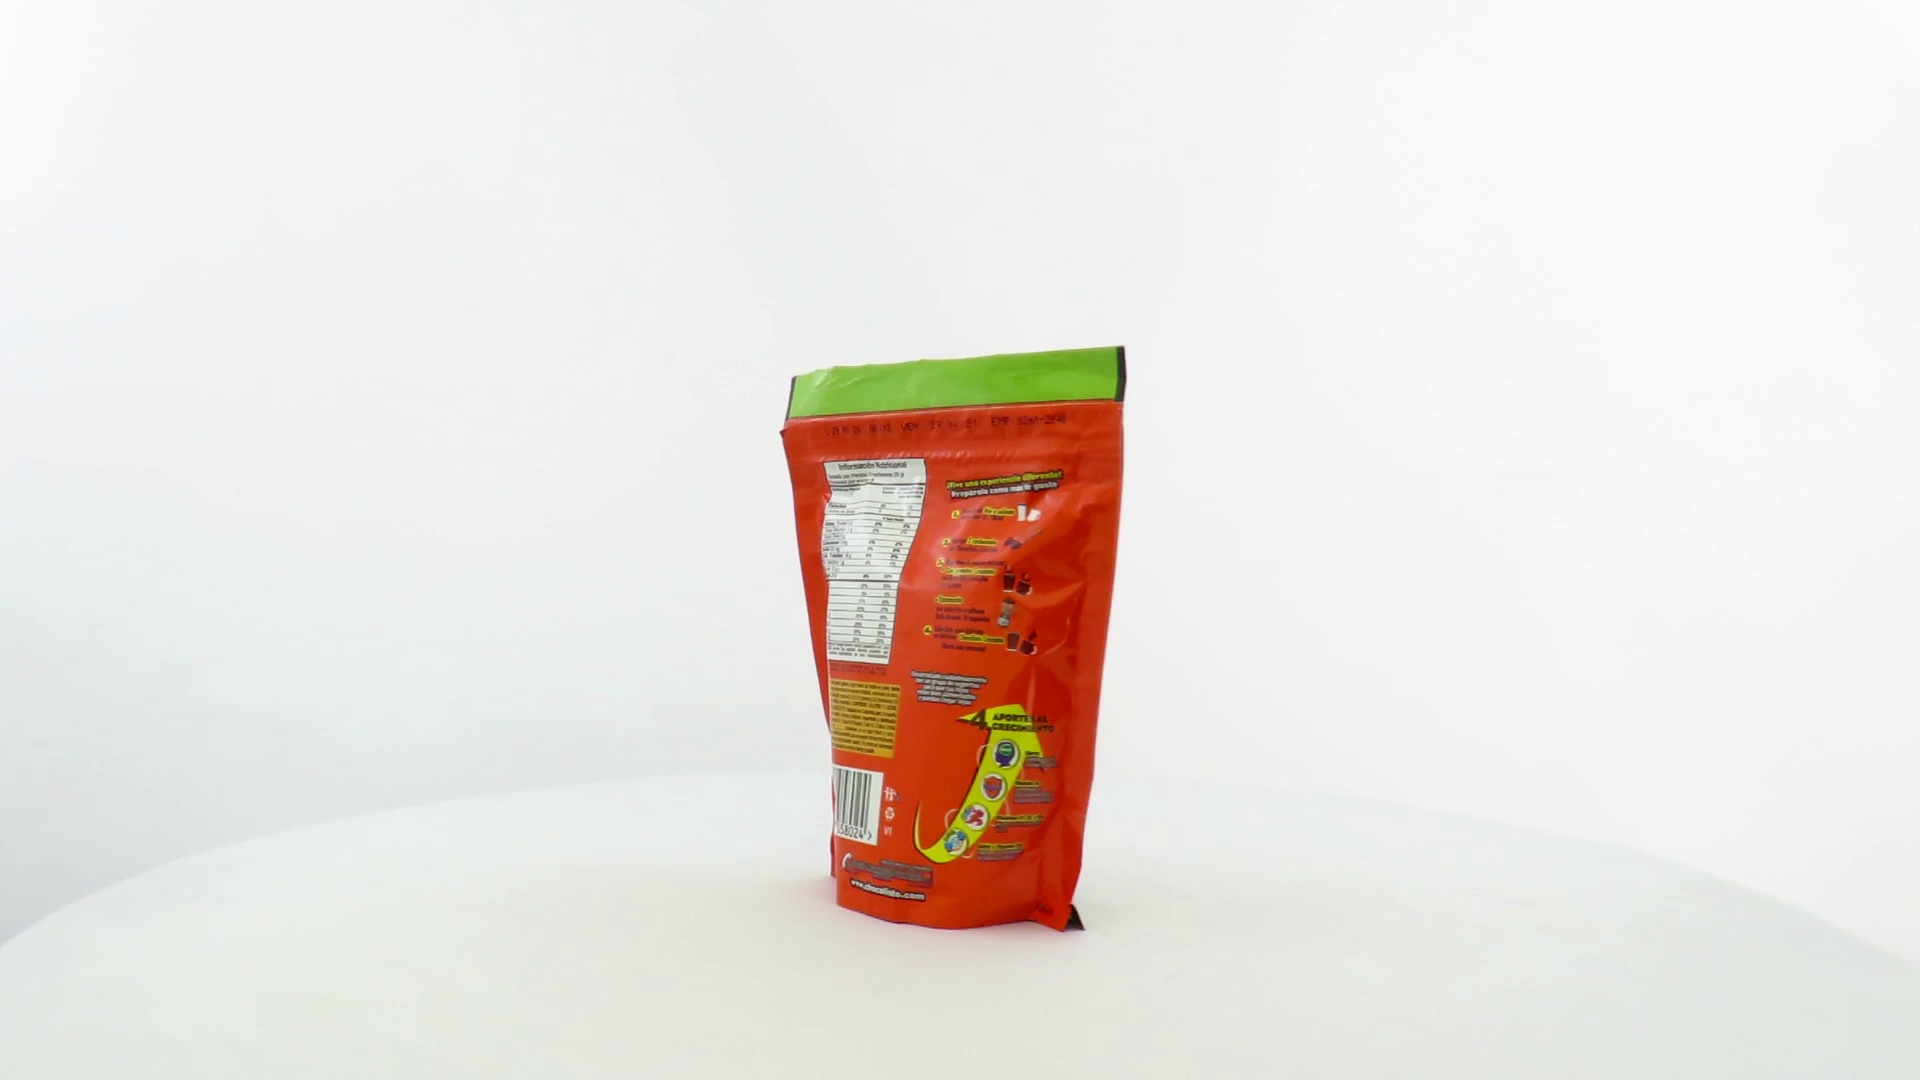COL0170102DYP10000: (774, 342, 1133, 939)
